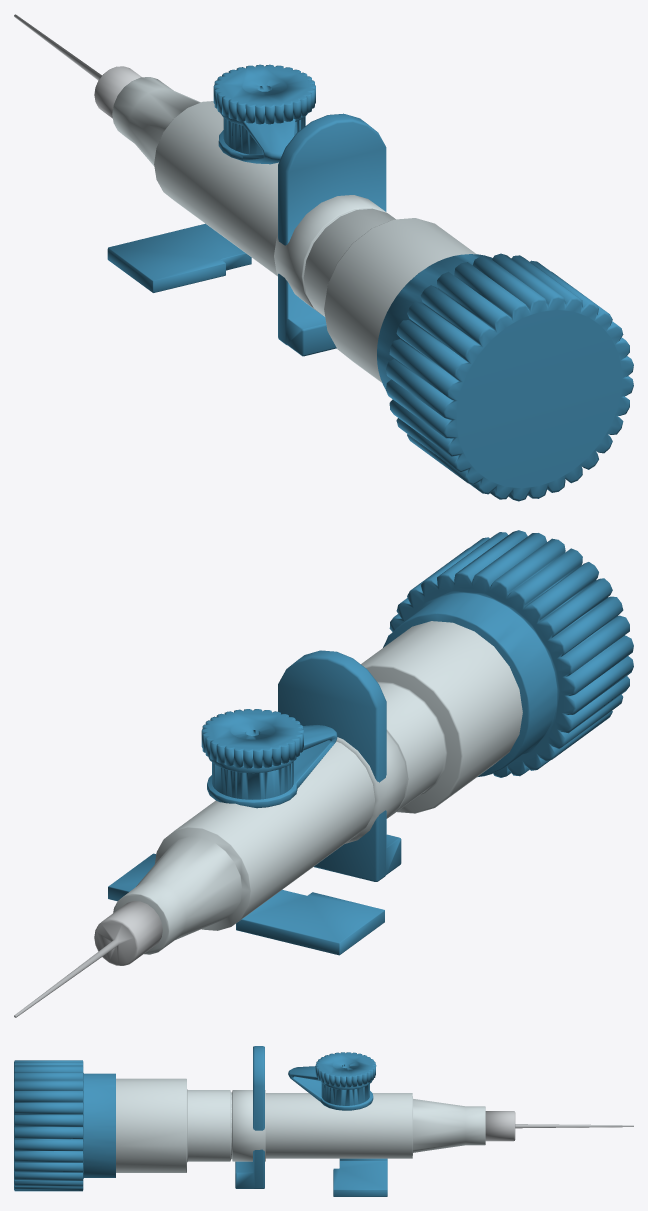
File: BCMM_VascularAccess.fbx
3 renders of one model, top to bottom at view 1: azimuth 30°, elevation 25°; view 2: azimuth 150°, elevation 25°; view 3: azimuth 270°, elevation 25°, orthographic. The views are drawn at different scales.
Visible parts, largest first — view 1: BCMM_VascularAccess; view 2: BCMM_VascularAccess; view 3: BCMM_VascularAccess.
Boxes of the visible parts, x1,y1,x2,y2 form: BCMM_VascularAccess: [14, 14, 633, 501]; BCMM_VascularAccess: [14, 530, 633, 1017]; BCMM_VascularAccess: [14, 1046, 633, 1196].
Size of what is drawn, in the model's own units: 1.15 by 1.09 by 4.5.
